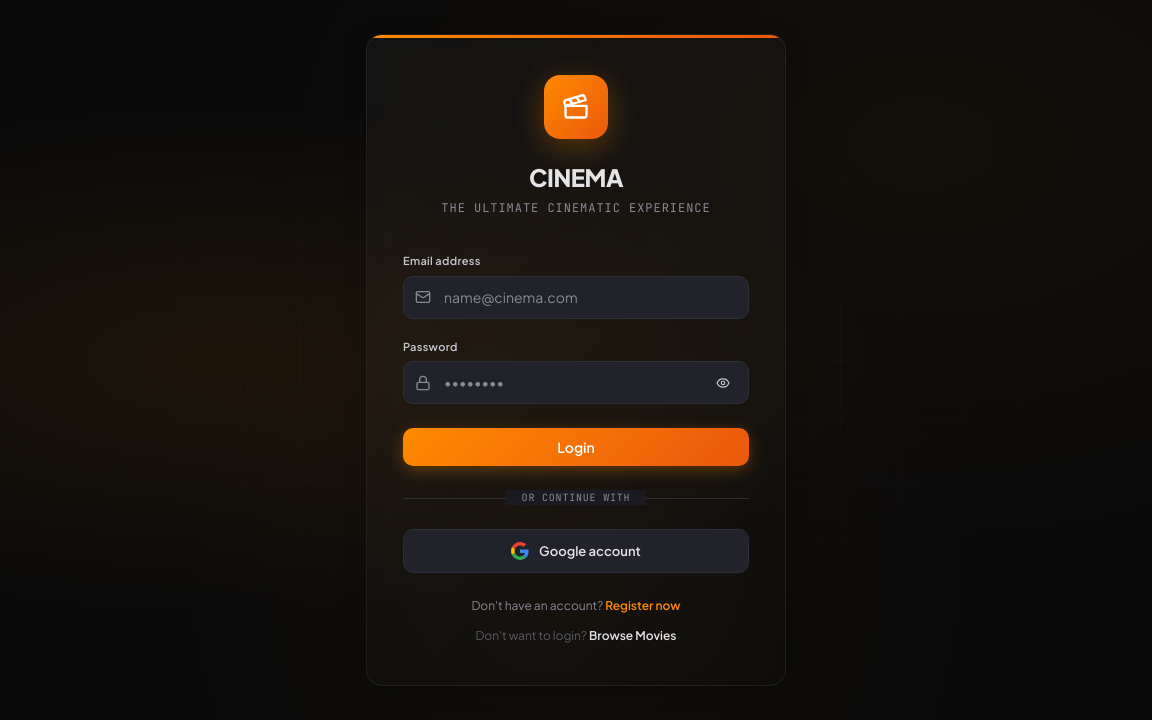
LoginForm › shows error on network failure
This screenshot has width=1152, height=720.
Step 1. Type "test@test.com" into the field with placeholder "name@cinema.com" → (576, 297), box [403,276,749,318]
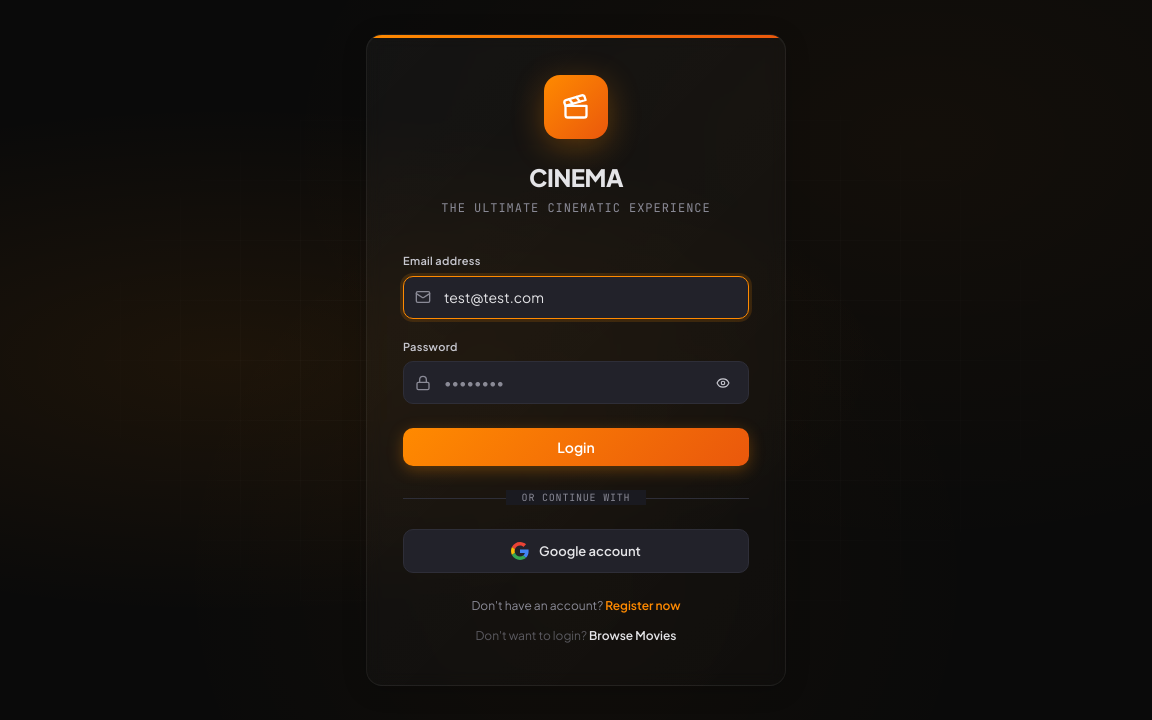
Step 2. Type "password123" into the password field with placeholder "••••••••" → (576, 382), box [403,361,749,404]
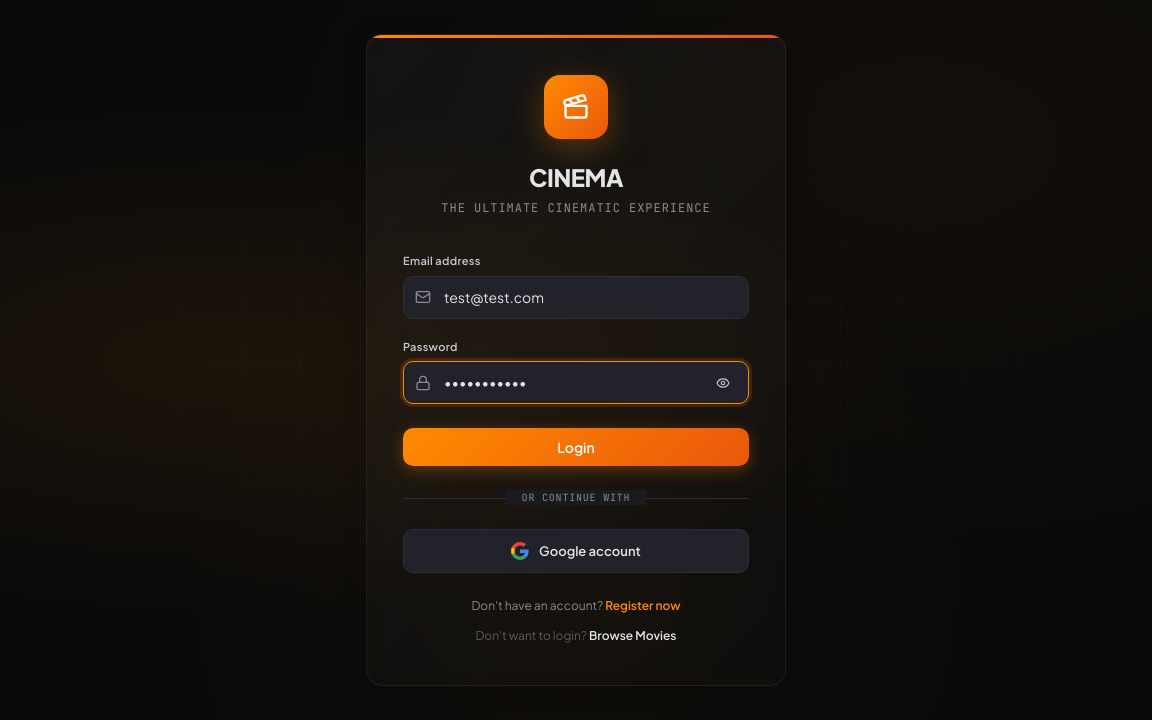
Step 3. Click the button "Login" → (576, 447), box [403,428,749,466]
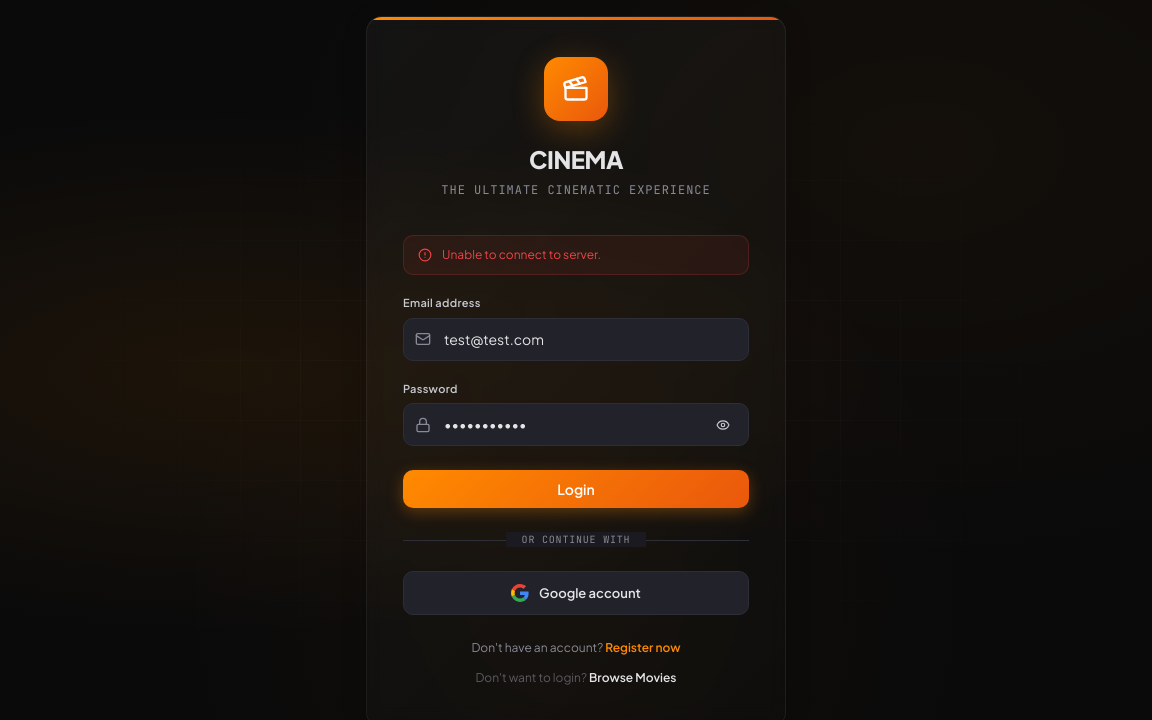
Expected: the text "Unable to connect to server." is shown, [442,246,601,264]
